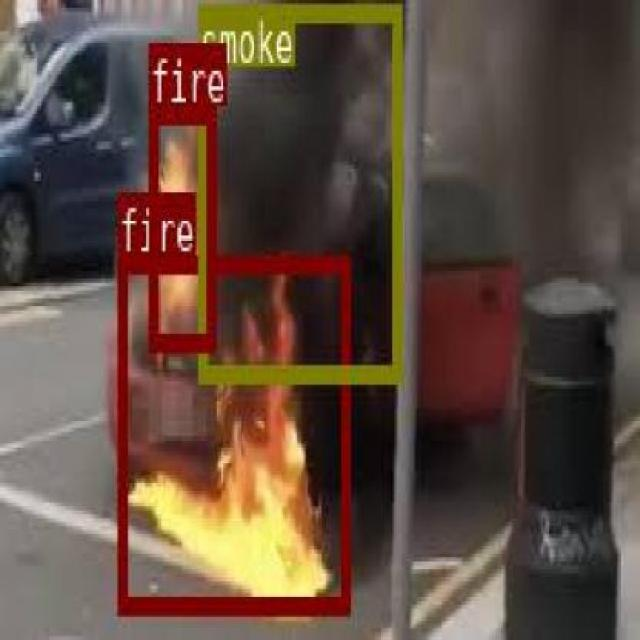fire: (118, 252, 347, 611), (148, 106, 214, 347)
smoke: (196, 1, 399, 380)
